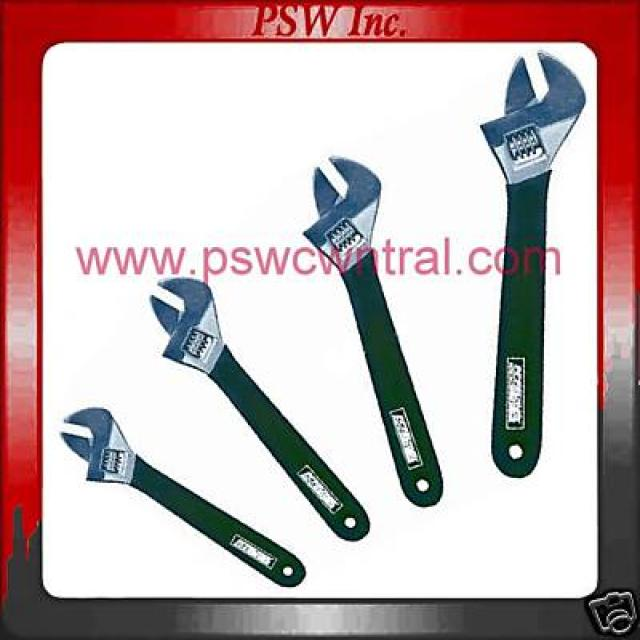wrench: (291, 150, 484, 506), (472, 39, 600, 502), (36, 385, 294, 612), (116, 269, 316, 414)
